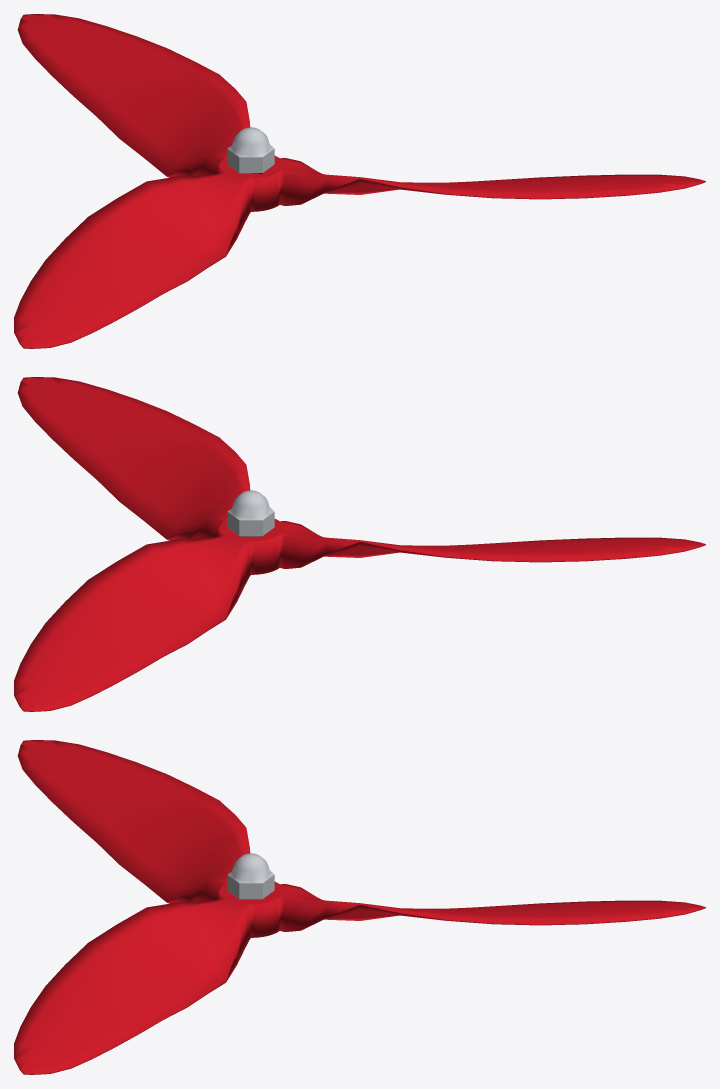
The model's file is DALPROP_T7035.fbx.
3 renders of one model, top to bottom at view 1: azimuth 30°, elevation 25°; view 2: azimuth 150°, elevation 25°; view 3: azimuth 270°, elevation 25°, orthographic.
Visible parts, largest first — view 1: R3_PROP_DALPROP_T7035, R3_NUT_DALPROP_T7035; view 2: R3_PROP_DALPROP_T7035, R3_NUT_DALPROP_T7035; view 3: R3_PROP_DALPROP_T7035, R3_NUT_DALPROP_T7035.
Boxes of the visible parts, <box> form: R3_PROP_DALPROP_T7035: <box>14,14,705,348</box>; R3_NUT_DALPROP_T7035: <box>227,127,274,173</box>; R3_PROP_DALPROP_T7035: <box>14,377,705,711</box>; R3_NUT_DALPROP_T7035: <box>227,490,274,536</box>; R3_PROP_DALPROP_T7035: <box>14,740,705,1074</box>; R3_NUT_DALPROP_T7035: <box>227,853,274,899</box>.
Size of the model in its own units: 0.154 by 0.0173 by 0.1352.
1 material, 1 textured.
